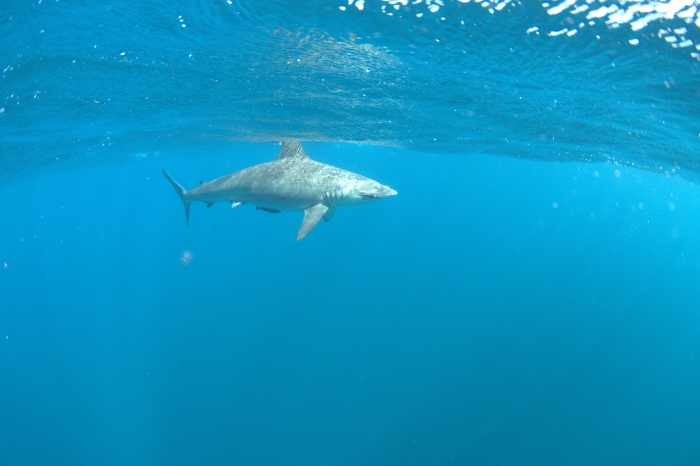Hammer: (144, 125, 424, 259)
